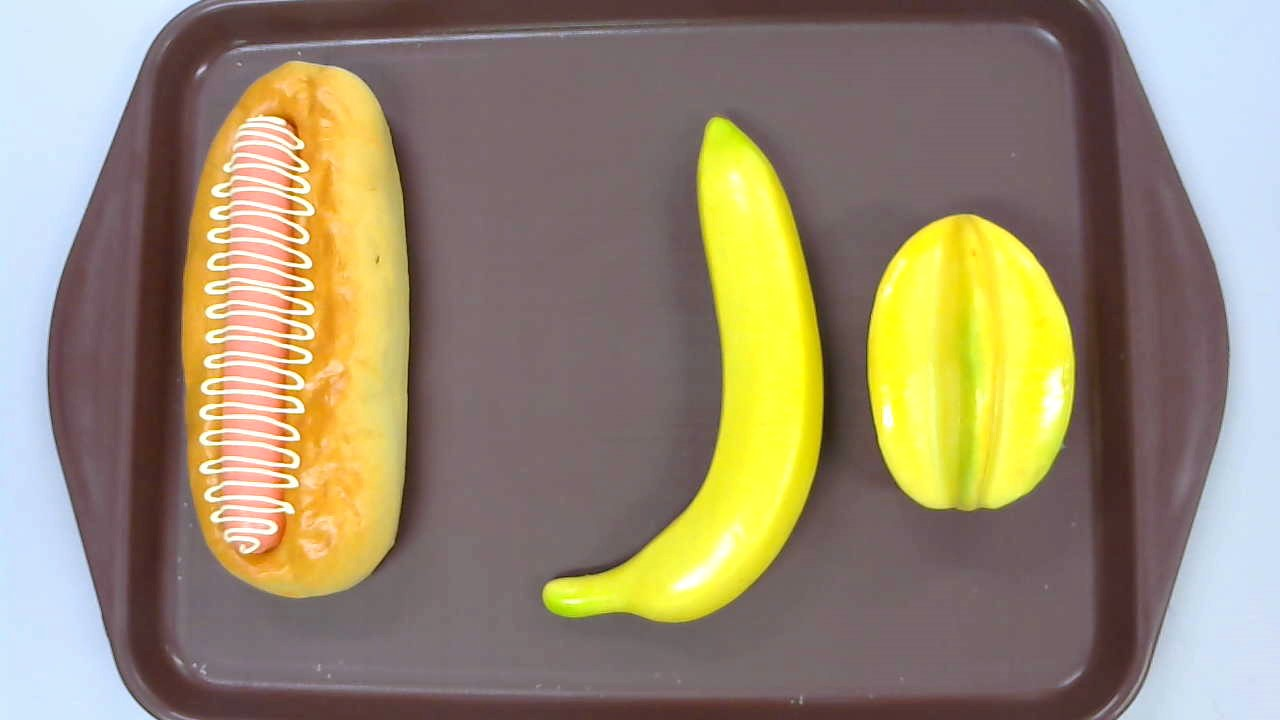banana: (541, 112, 823, 623)
hot dog: (178, 59, 410, 597)
star fruit: (868, 212, 1077, 511)
